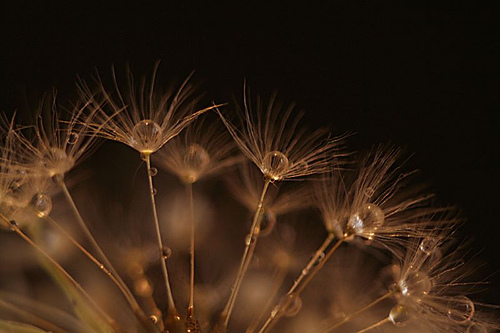dandelion: (2, 62, 489, 333)
